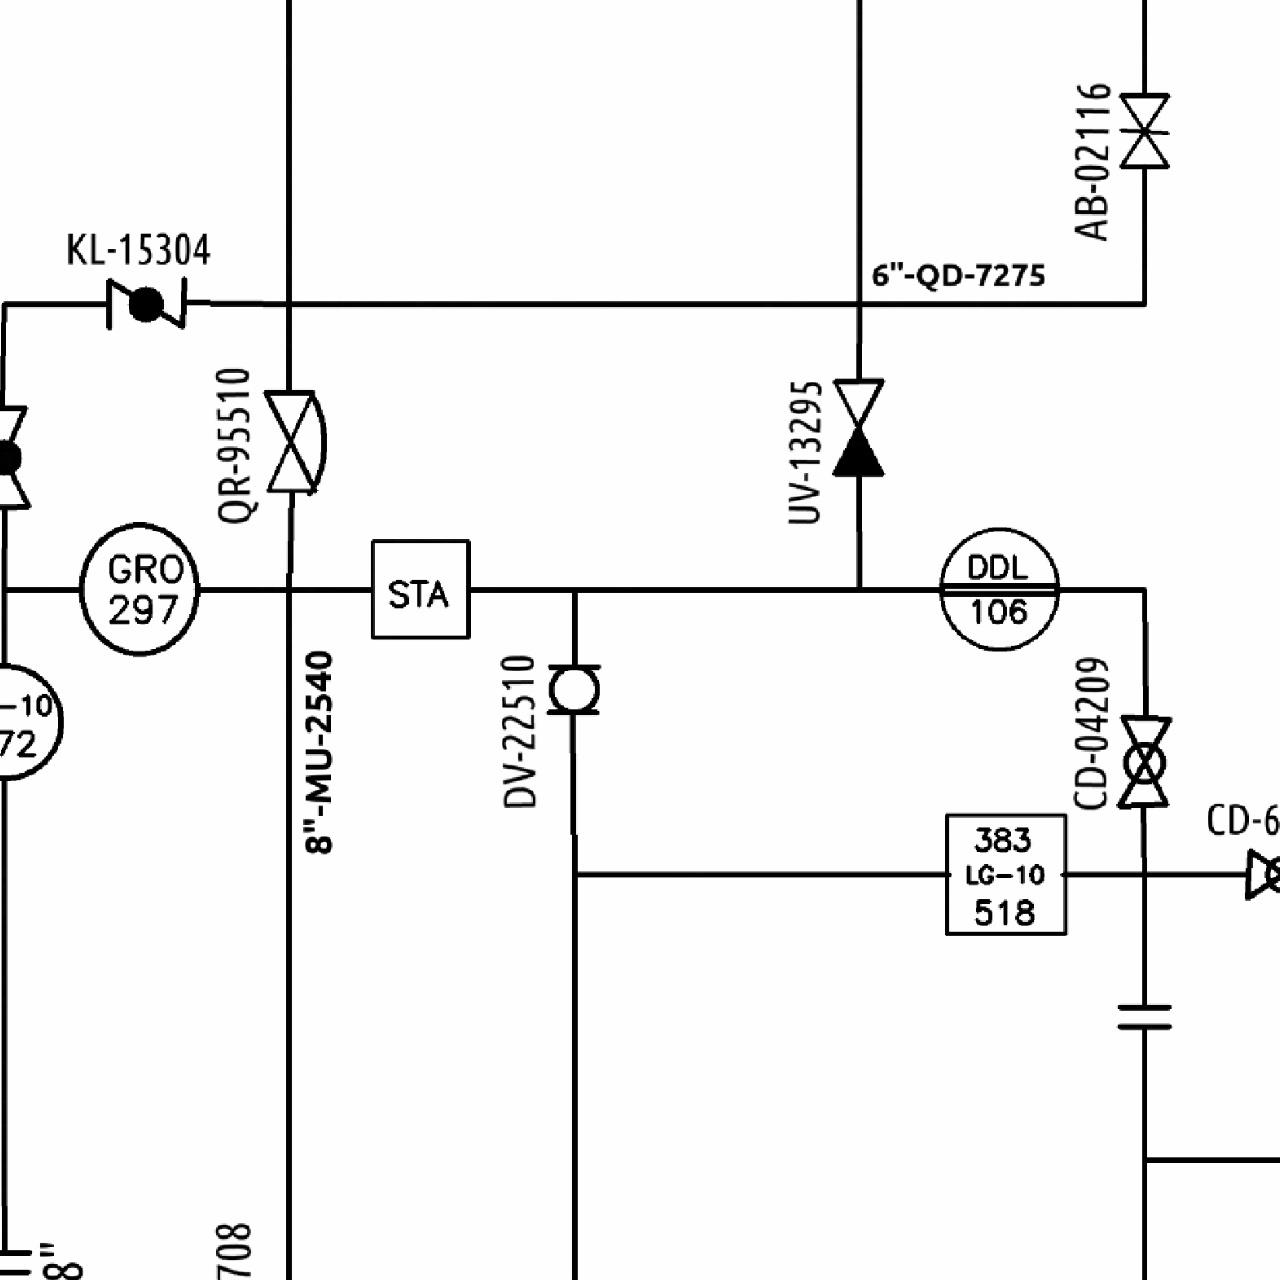Control-Panel: (932, 522, 1065, 655)
Half closed valve: (828, 373, 888, 479)
